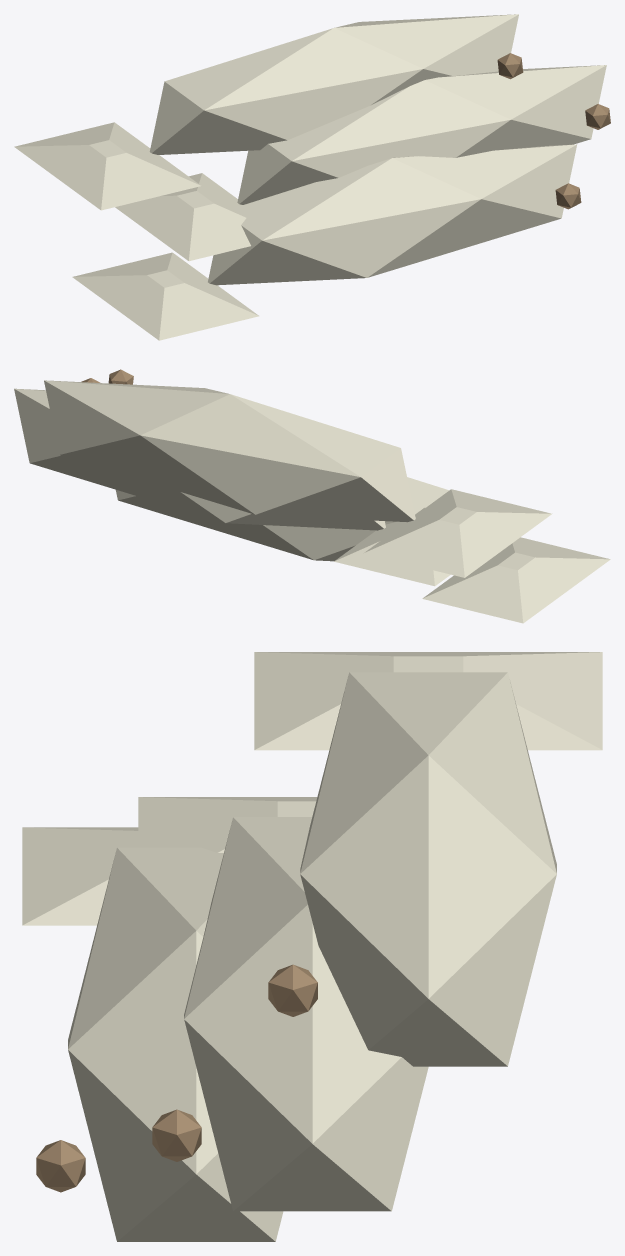
File: item_042_fish_m.glb
The picture shows the model from 3 angles, top to bottom: view 1: azimuth 30°, elevation 25°; view 2: azimuth 150°, elevation 25°; view 3: azimuth 270°, elevation 25°; orthographic projection. The views are drawn at different scales.
Visible parts, largest first — view 1: item_042_fish_m; view 2: item_042_fish_m; view 3: item_042_fish_m.
Boxes of the visible parts, left/top/right/bottom form: item_042_fish_m: left=14, top=14, right=610, bottom=340; item_042_fish_m: left=14, top=369, right=610, bottom=623; item_042_fish_m: left=22, top=652, right=602, bottom=1241.
Size of the model in its own units: 0.6209 by 0.225 by 0.3.
